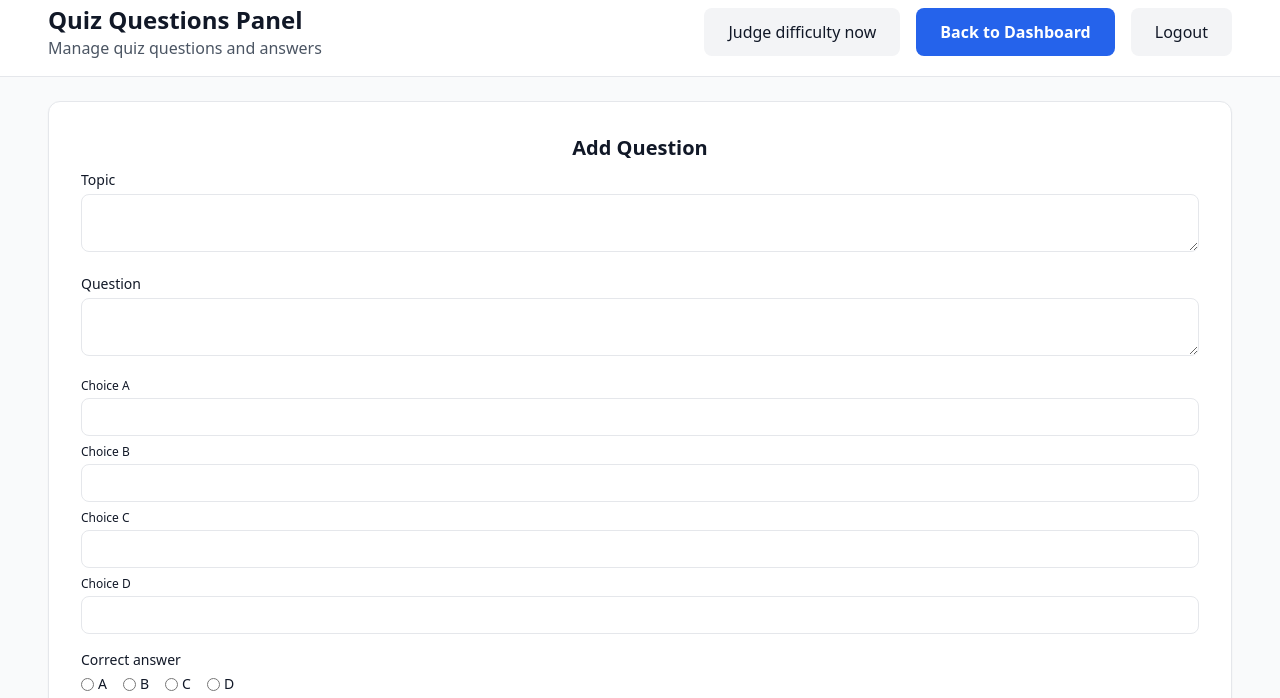
Test: QuestionPanelPage › submits a new question and resets the form
Type "New question stem" into the 1st text box at (640, 223), box [81,194,1199,252]
Type "New subtitle" into the 2nd text box at (640, 327), box [81,298,1199,356]
Type "Choice A" into the 1st field at (640, 417), box [81,398,1199,436]
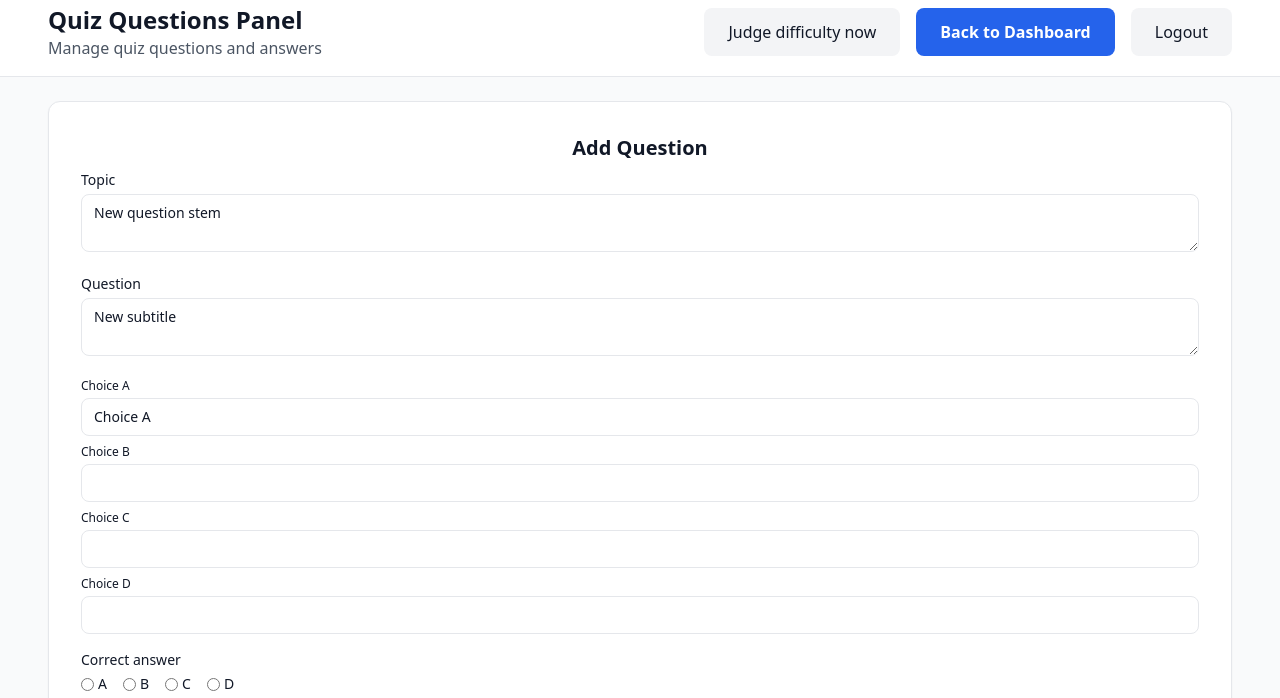
Type "Choice B" into the 2nd field at (640, 483), box [81,464,1199,502]
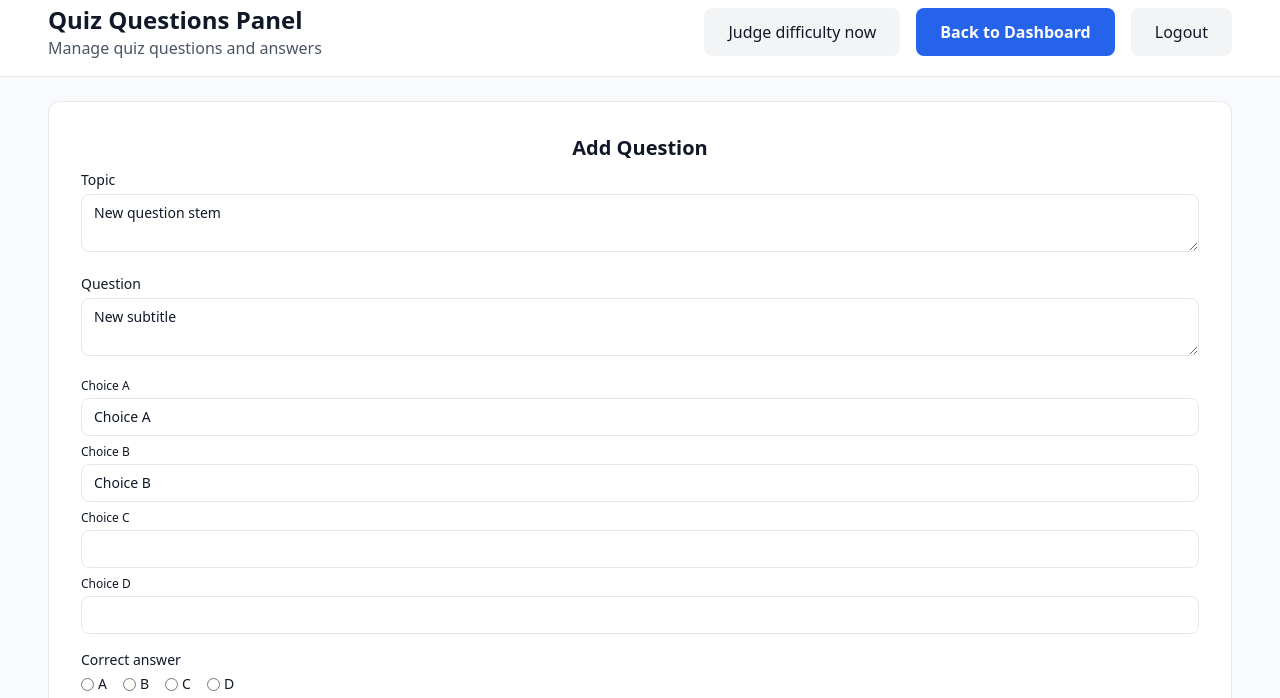
Type "Choice C" into the 3rd field at (640, 549), box [81,530,1199,568]
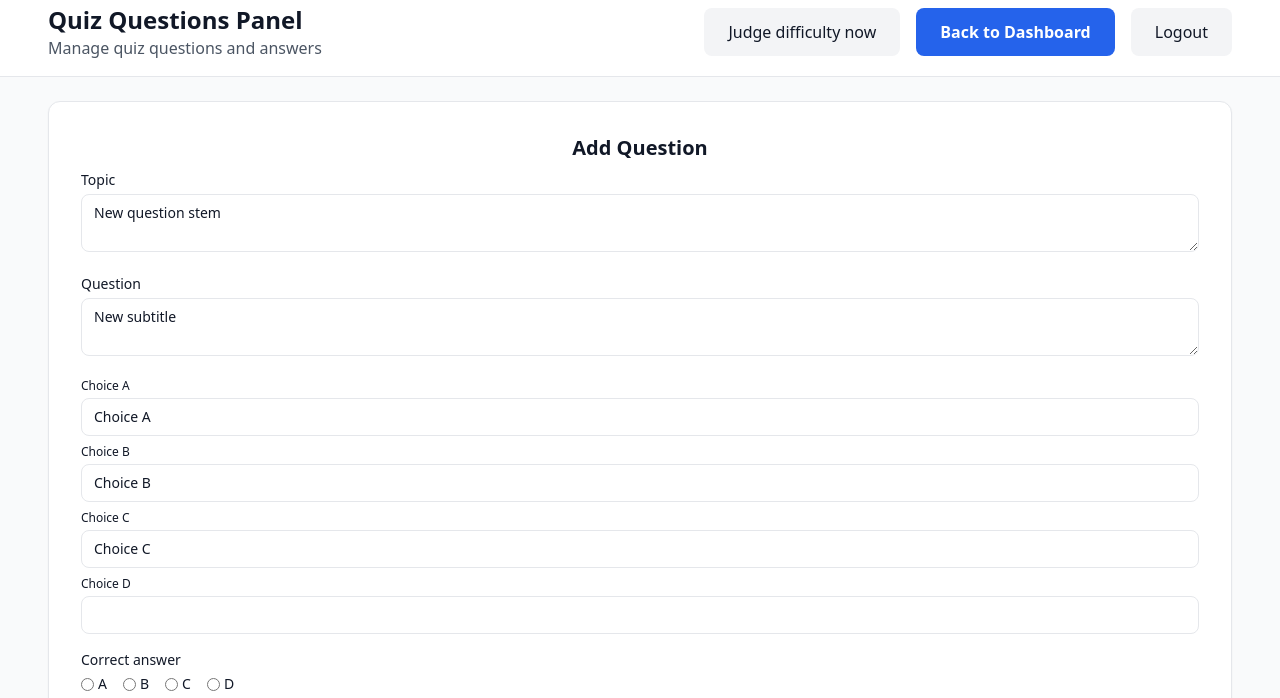
Type "Choice D" into the 4th field at (640, 615), box [81,596,1199,634]
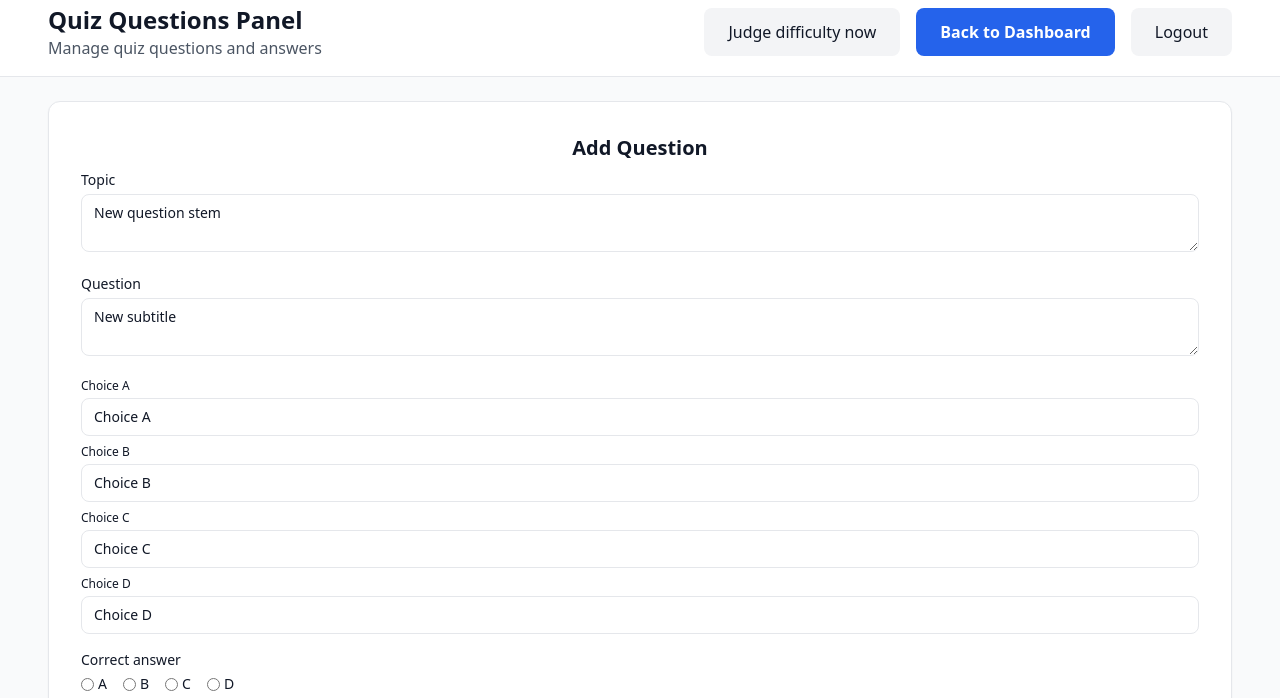
Click the radio button labelled "B" at (130, 684), box [123,678,136,690]
(page scrolled)
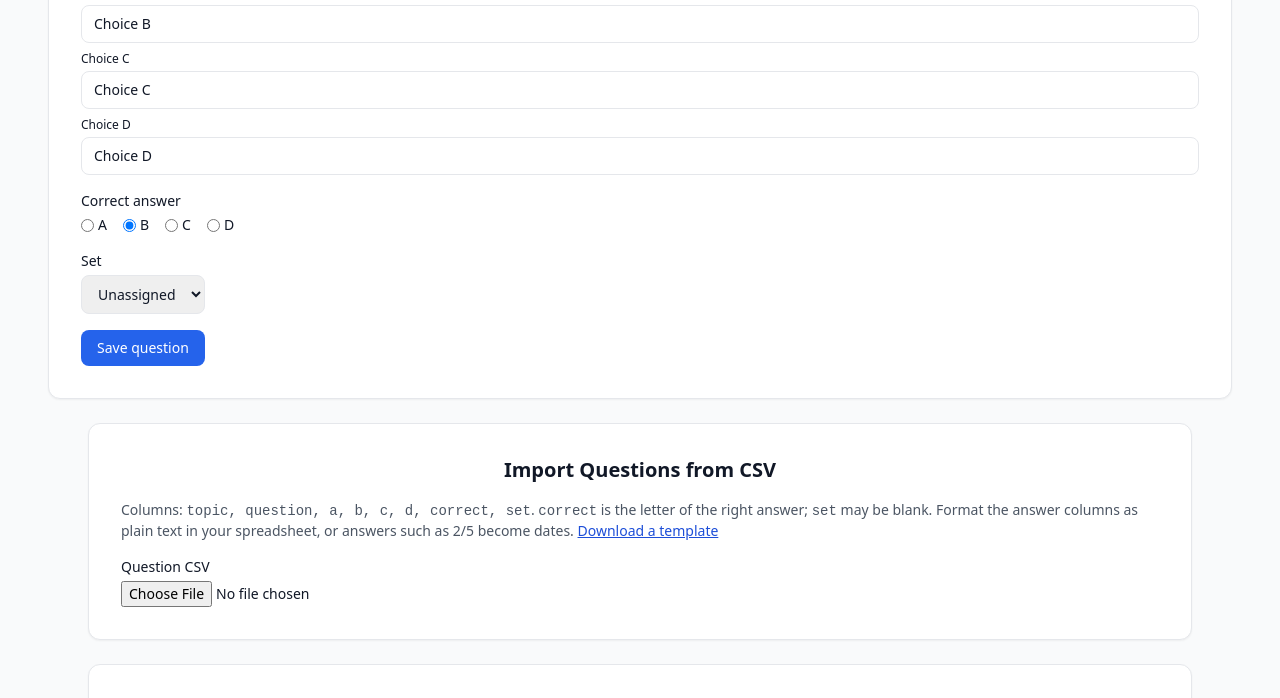
Check: the button "Save question" is enabled
Click the button "Save question" at (143, 348), box [81,330,205,366]
(page scrolled)
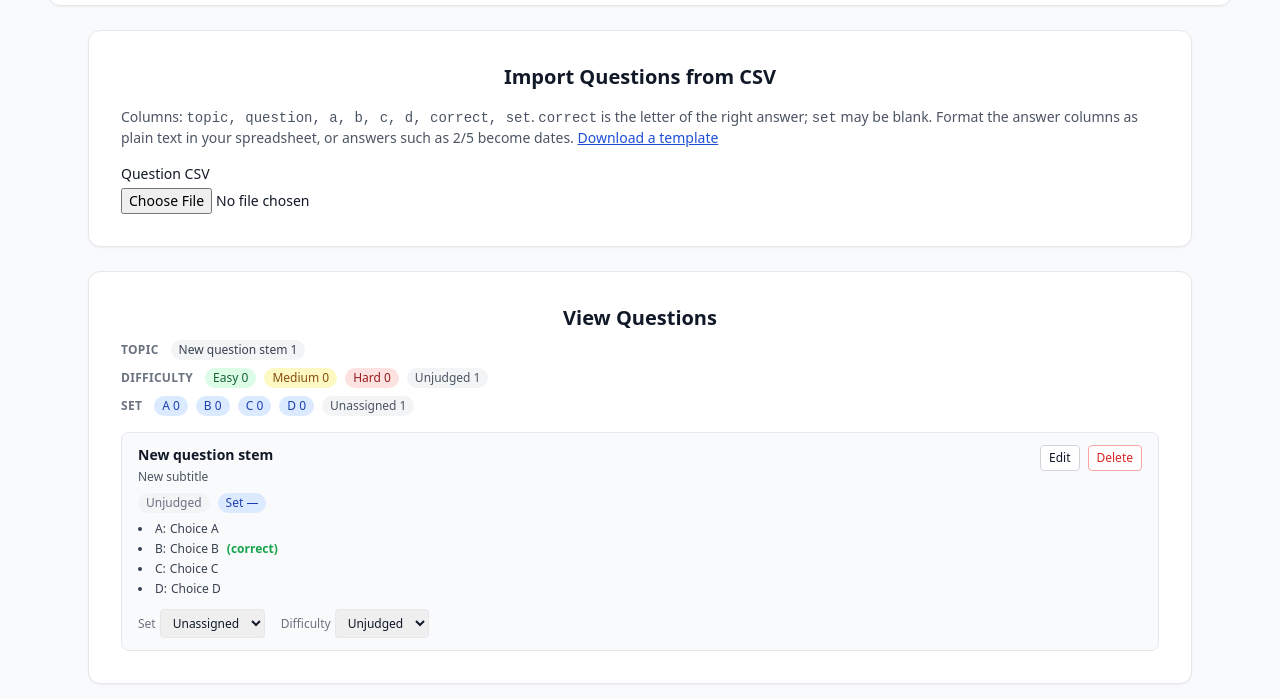
Check: the text "New question stem" is shown, box [138,445,273,465]
